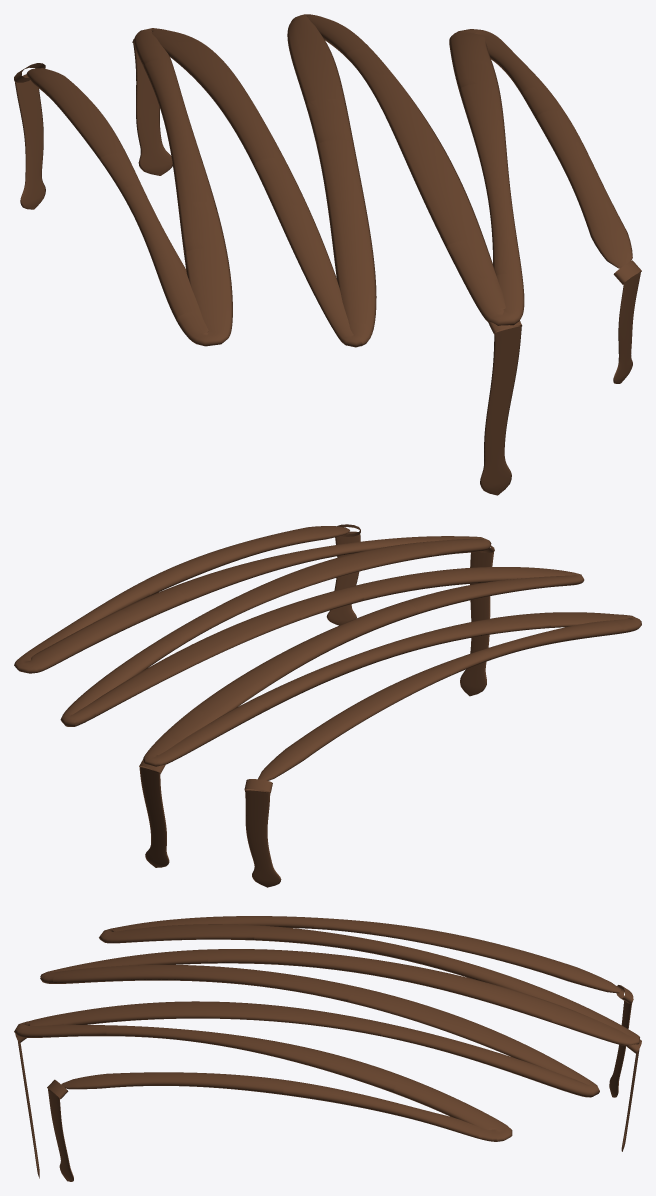
Rendered from calda_chocolate.glb.
The picture shows the model from 3 angles, top to bottom: view 1: azimuth 30°, elevation 25°; view 2: azimuth 150°, elevation 25°; view 3: azimuth 270°, elevation 25°; orthographic projection. The views are drawn at different scales.
Visible parts, largest first — view 1: calda_chocolate_10, calda_chocolate_7, calda_chocolate_5, calda_chocolate_12, calda_chocolate_15, calda_chocolate_2, calda_chocolate_6, calda_chocolate_3, calda_chocolate_8, calda_chocolate_1, calda_chocolate_21, calda_chocolate_0 (+8 smaller); view 2: calda_chocolate_5, calda_chocolate_8, calda_chocolate_10, calda_chocolate_3, calda_chocolate_0, calda_chocolate_12, calda_chocolate_7, calda_chocolate_13, calda_chocolate_15, calda_chocolate_9, calda_chocolate_4, calda_chocolate_1 (+8 smaller); view 3: calda_chocolate_5, calda_chocolate_10, calda_chocolate_12, calda_chocolate_7, calda_chocolate_3, calda_chocolate_8, calda_chocolate_0, calda_chocolate_15, calda_chocolate_9, calda_chocolate_13, calda_chocolate_14, calda_chocolate_2 (+7 smaller).
Boxes of the visible parts, x1,y1,x2,y2 form: calda_chocolate_10: (345,48,498,280); calda_chocolate_7: (306,99,376,346); calda_chocolate_5: (155,33,308,208); calda_chocolate_12: (455,60,521,275); calda_chocolate_15: (522,87,632,268); calda_chocolate_2: (176,202,232,346); calda_chocolate_6: (253,158,373,347); calda_chocolate_3: (138,44,218,252); calda_chocolate_8: (287,15,351,145); calda_chocolate_1: (100,153,206,333); calda_chocolate_21: (480,326,521,495); calda_chocolate_0: (26,68,142,187); calda_chocolate_5: (171,588,471,741); calda_chocolate_8: (71,587,364,726); calda_chocolate_10: (165,540,464,647); calda_chocolate_3: (209,616,551,734); calda_chocolate_0: (258,650,491,780); calda_chocolate_12: (119,536,437,624); calda_chocolate_7: (284,567,575,619); calda_chocolate_13: (14,591,186,673); calda_chocolate_15: (143,526,349,595); calda_chocolate_9: (60,610,225,726); calda_chocolate_4: (143,699,266,766); calda_chocolate_1: (436,619,637,674); calda_chocolate_5: (208,949,602,1037); calda_chocolate_10: (63,1001,453,1052); calda_chocolate_12: (62,1024,401,1091); calda_chocolate_7: (40,964,358,1000); calda_chocolate_3: (195,924,571,1008); calda_chocolate_8: (277,974,593,1084); calda_chocolate_0: (314,918,621,993); calda_chocolate_15: (61,1072,337,1102); calda_chocolate_9: (381,1025,599,1097); calda_chocolate_13: (338,1059,512,1141); calda_chocolate_14: (283,1080,496,1141); calda_chocolate_2: (99,923,260,943).
Bounding box in the file's own units: 0.8796 × 0.3854 × 1.11.
